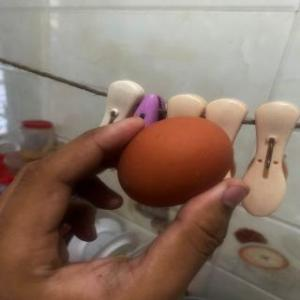egg: (116, 116, 236, 209)
